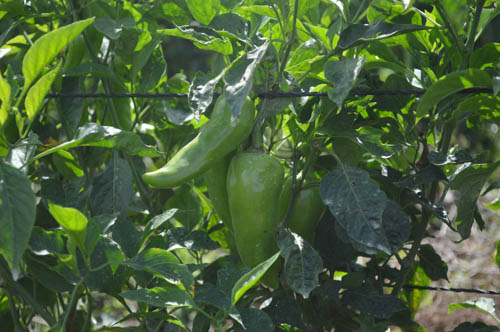ChiliPepper: (144, 97, 252, 188), (226, 154, 280, 283), (206, 95, 230, 227), (281, 175, 326, 243)
